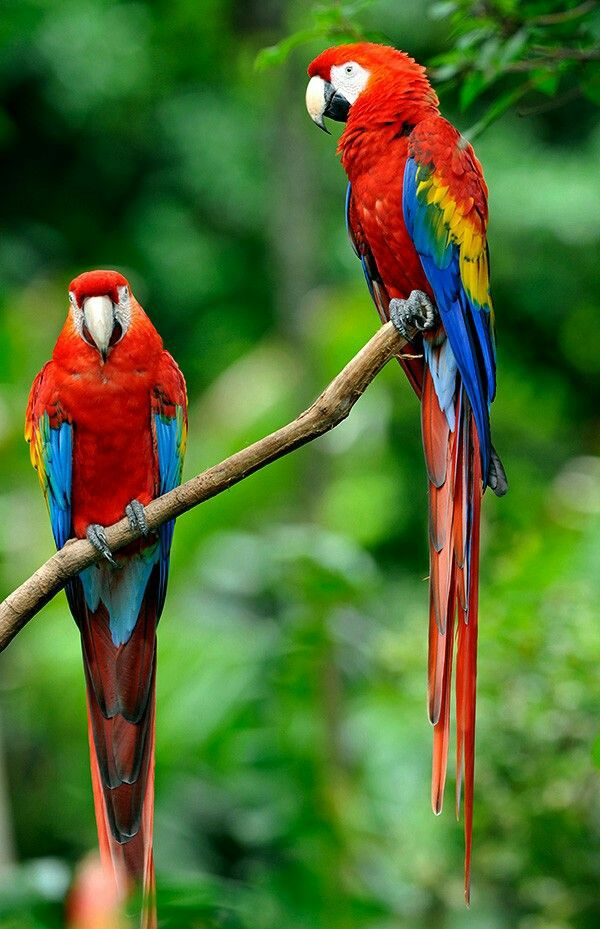Lapa: (287, 34, 519, 633), (23, 246, 206, 919)
